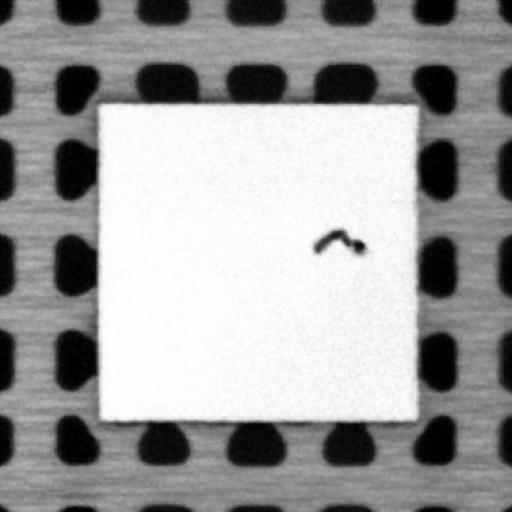DIE_INK: (306, 226, 367, 258)
